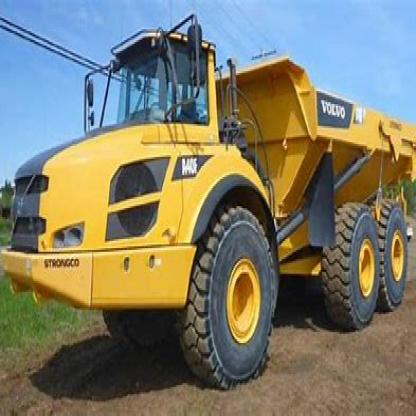dump_truck: (6, 14, 415, 388)
